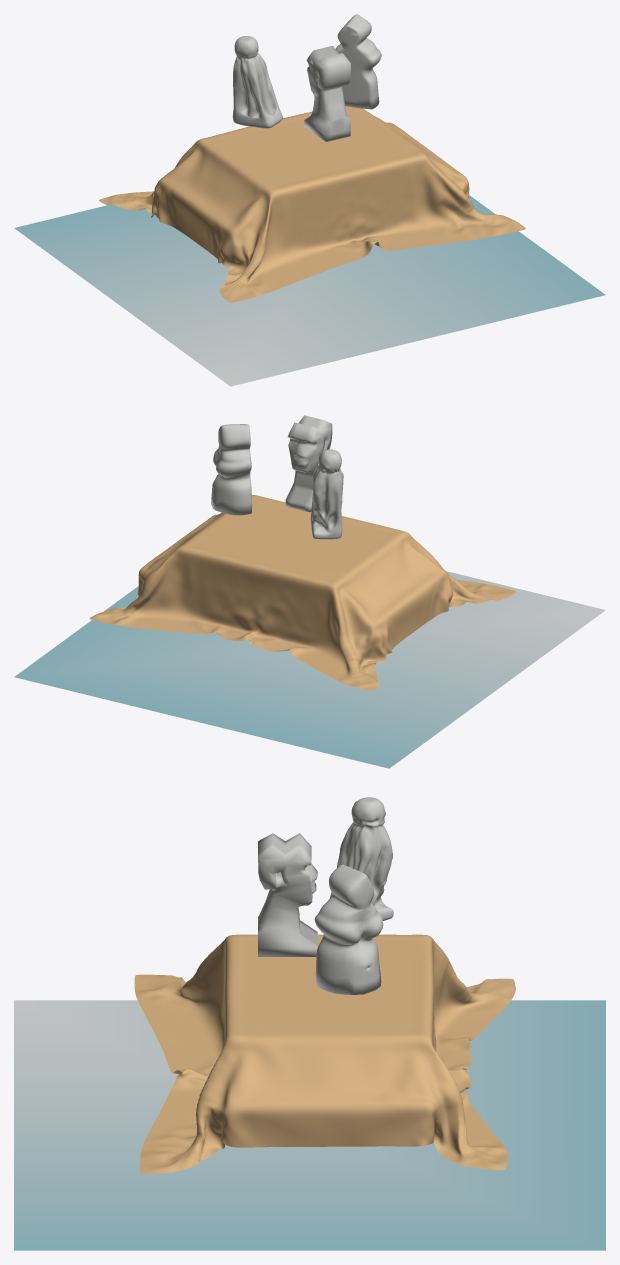
File: escultura.glb
The picture shows the model from 3 angles, top to bottom: view 1: azimuth 30°, elevation 25°; view 2: azimuth 150°, elevation 25°; view 3: azimuth 270°, elevation 25°; orthographic projection. The views are drawn at different scales.
Visible parts, largest first — view 1: Ab_Geometria_Tres_Projetos_UPBGE_0440; view 2: Ab_Geometria_Tres_Projetos_UPBGE_0440; view 3: Ab_Geometria_Tres_Projetos_UPBGE_0440.
Part boxes in pixels (x1,y1,x2,y2): Ab_Geometria_Tres_Projetos_UPBGE_0440: (14, 14, 605, 386); Ab_Geometria_Tres_Projetos_UPBGE_0440: (14, 415, 605, 768); Ab_Geometria_Tres_Projetos_UPBGE_0440: (14, 797, 605, 1250).
Size of the model in its own units: 5.75 by 3.19 by 5.75.
